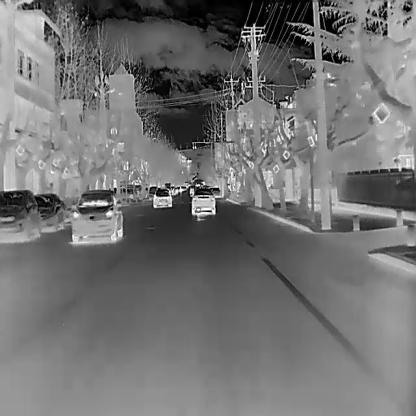car: (69, 188, 123, 243), (0, 189, 40, 242), (31, 192, 65, 230), (190, 188, 214, 216), (152, 187, 172, 208)
